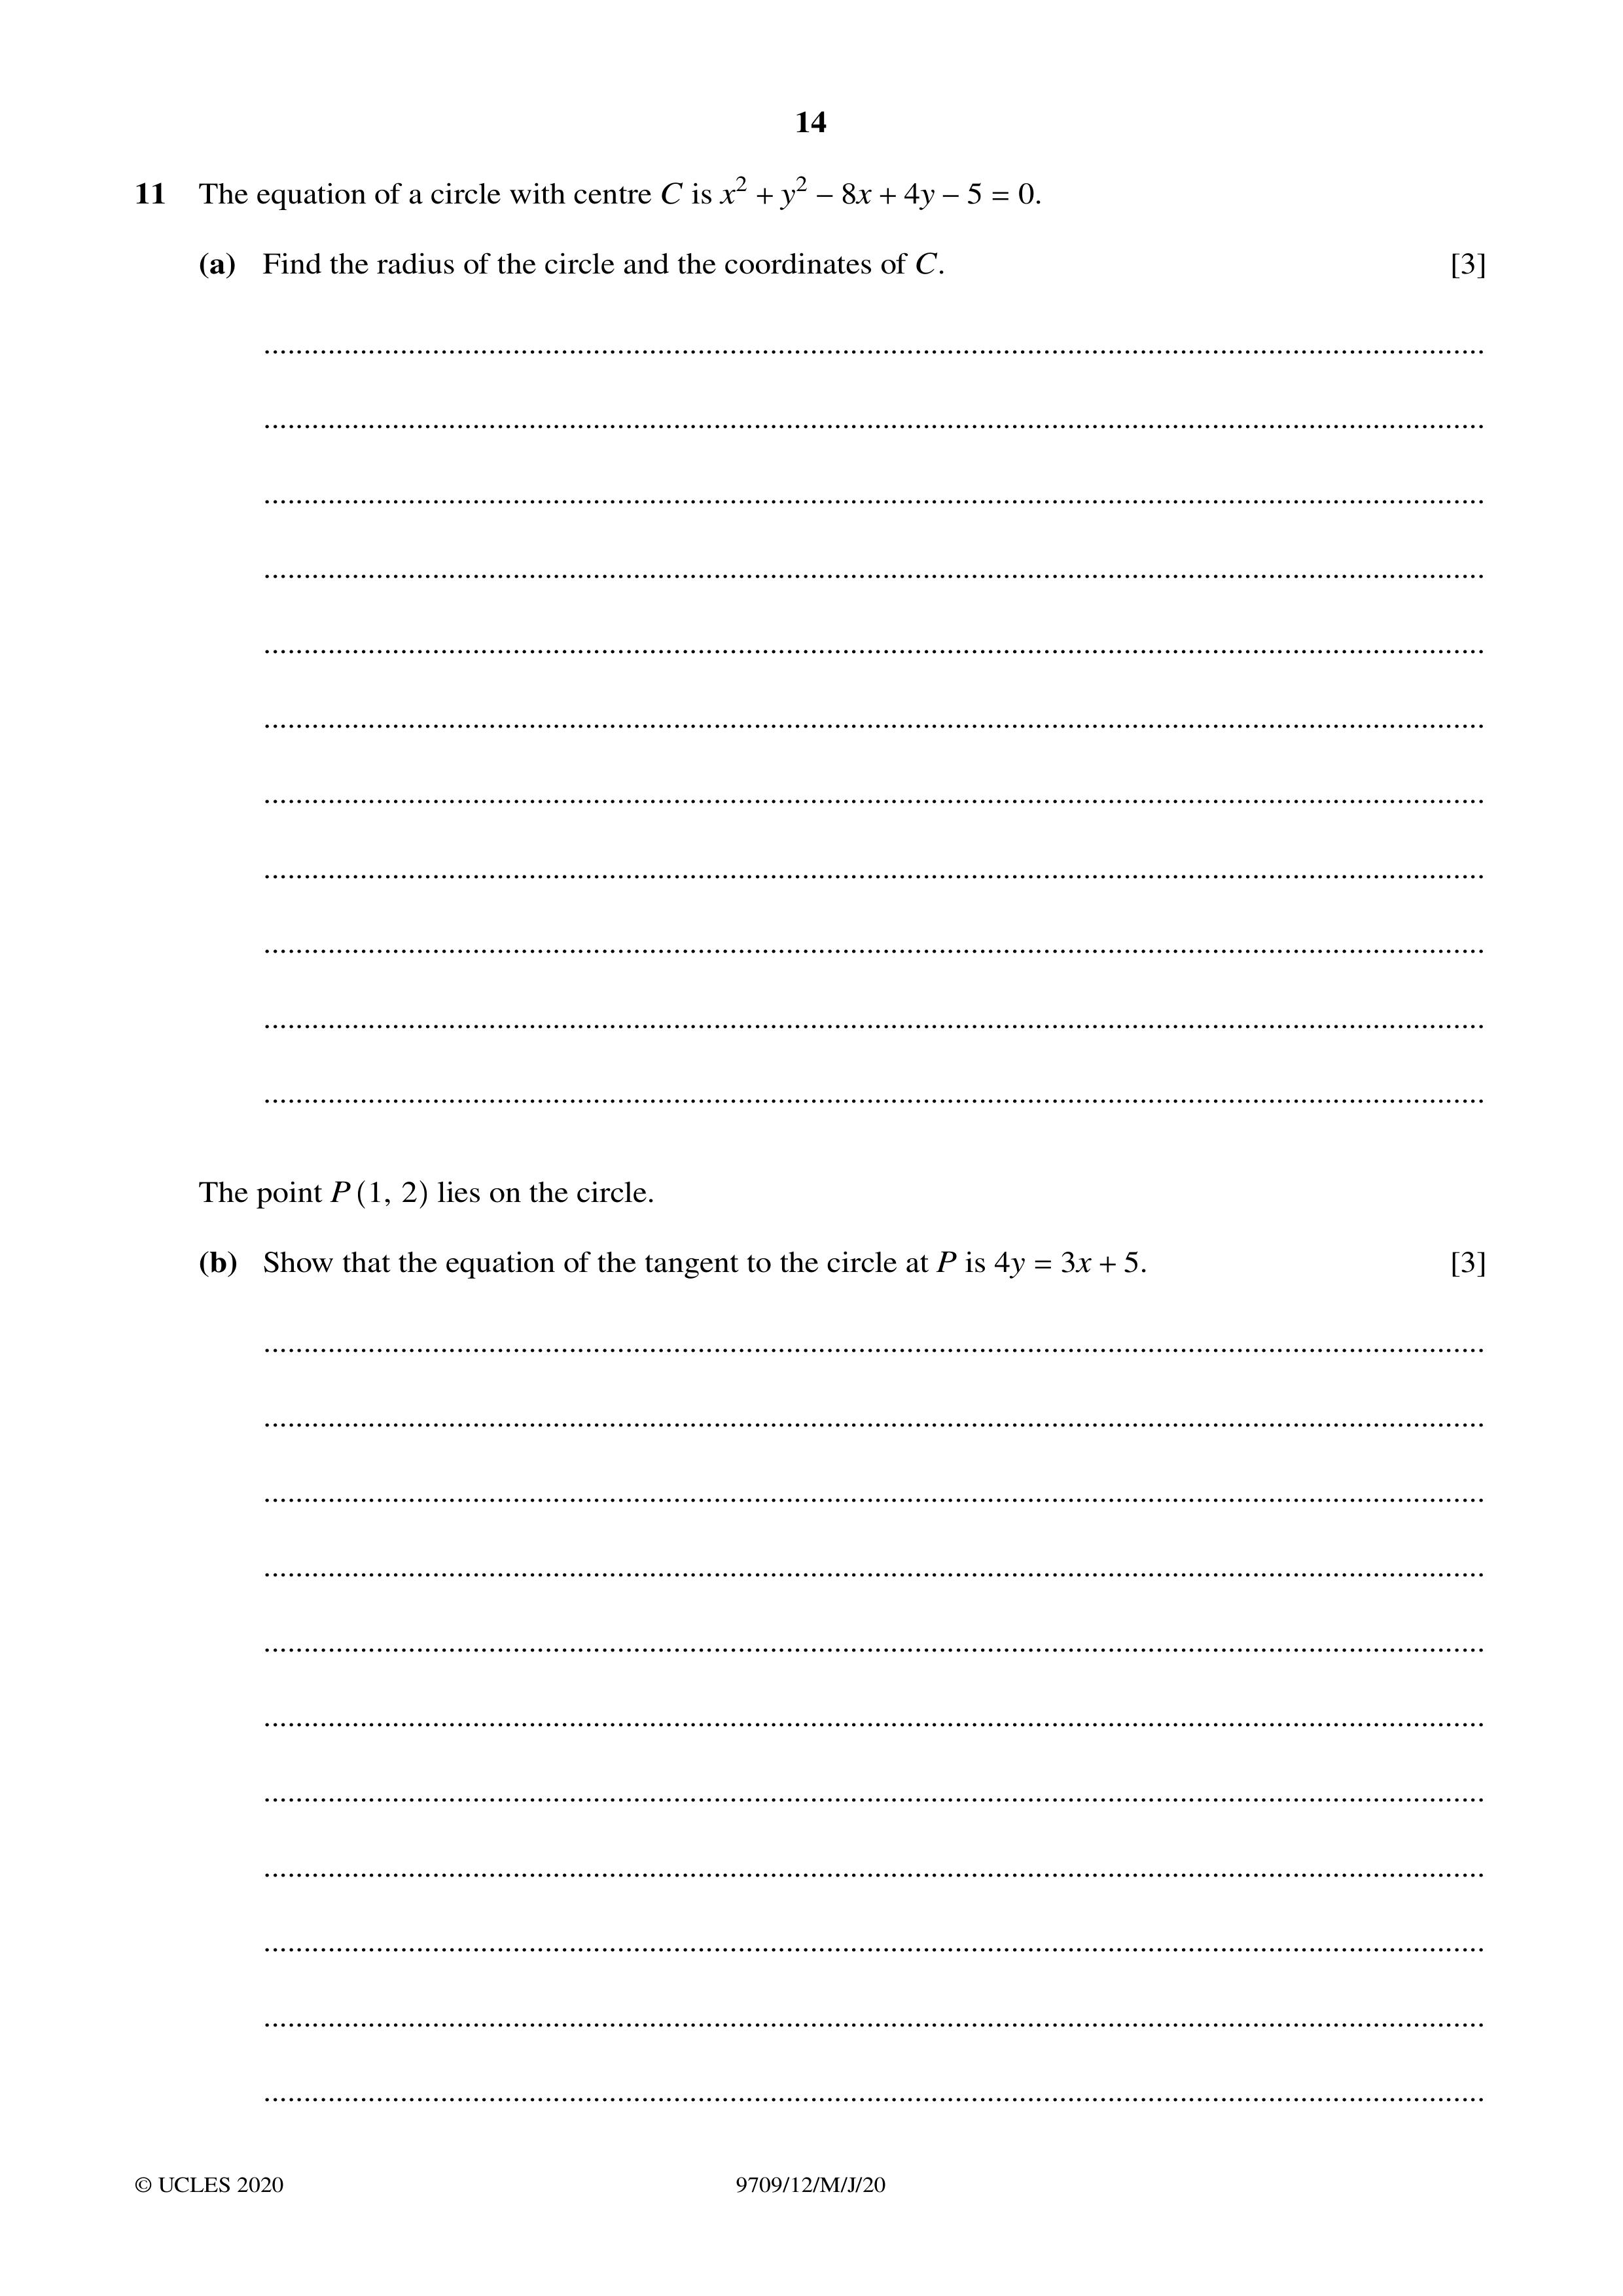question: (172, 1130, 1514, 1327), (100, 146, 1525, 325)
